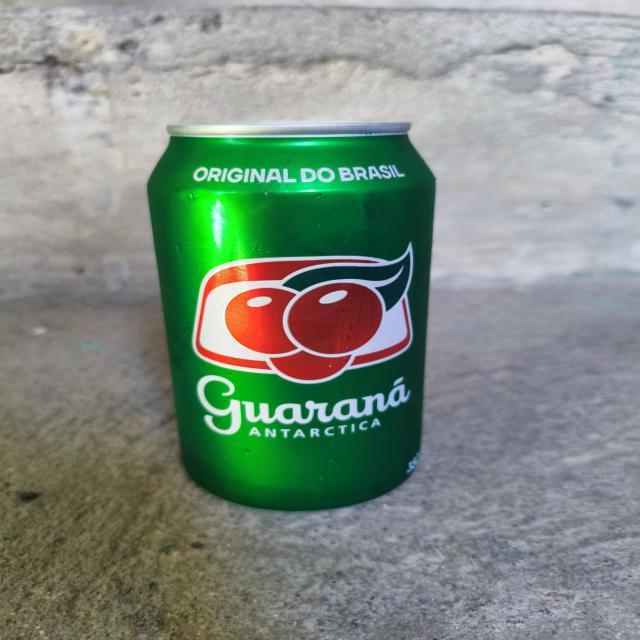Guarana: (138, 109, 454, 519)
